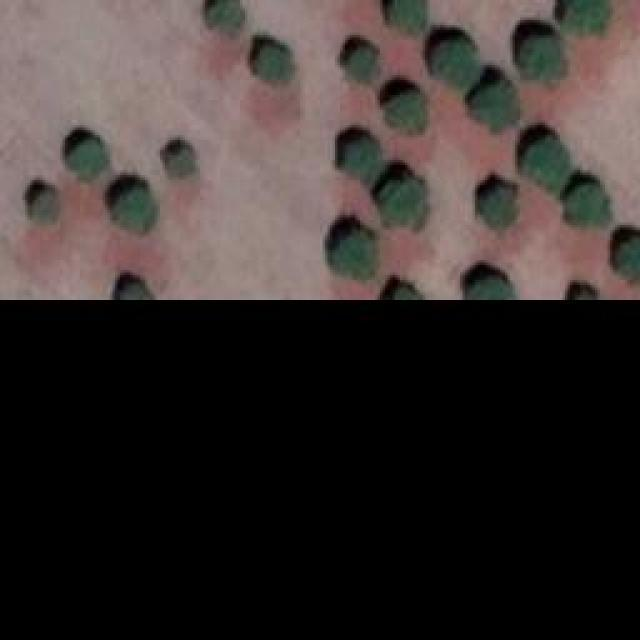Tree: (518, 135, 571, 188), (467, 78, 515, 131), (433, 35, 476, 88), (380, 177, 425, 225), (383, 87, 426, 135), (338, 227, 381, 275), (563, 183, 608, 228), (252, 40, 290, 88), (522, 30, 560, 78), (343, 133, 383, 176), (67, 138, 105, 183), (118, 185, 153, 230), (480, 183, 515, 226), (388, 0, 428, 35), (565, 0, 608, 30), (210, 0, 243, 38), (345, 45, 380, 80), (165, 140, 195, 175), (617, 237, 640, 277), (113, 278, 153, 301), (468, 278, 513, 298), (33, 183, 56, 218), (570, 282, 605, 300), (393, 283, 418, 298)
